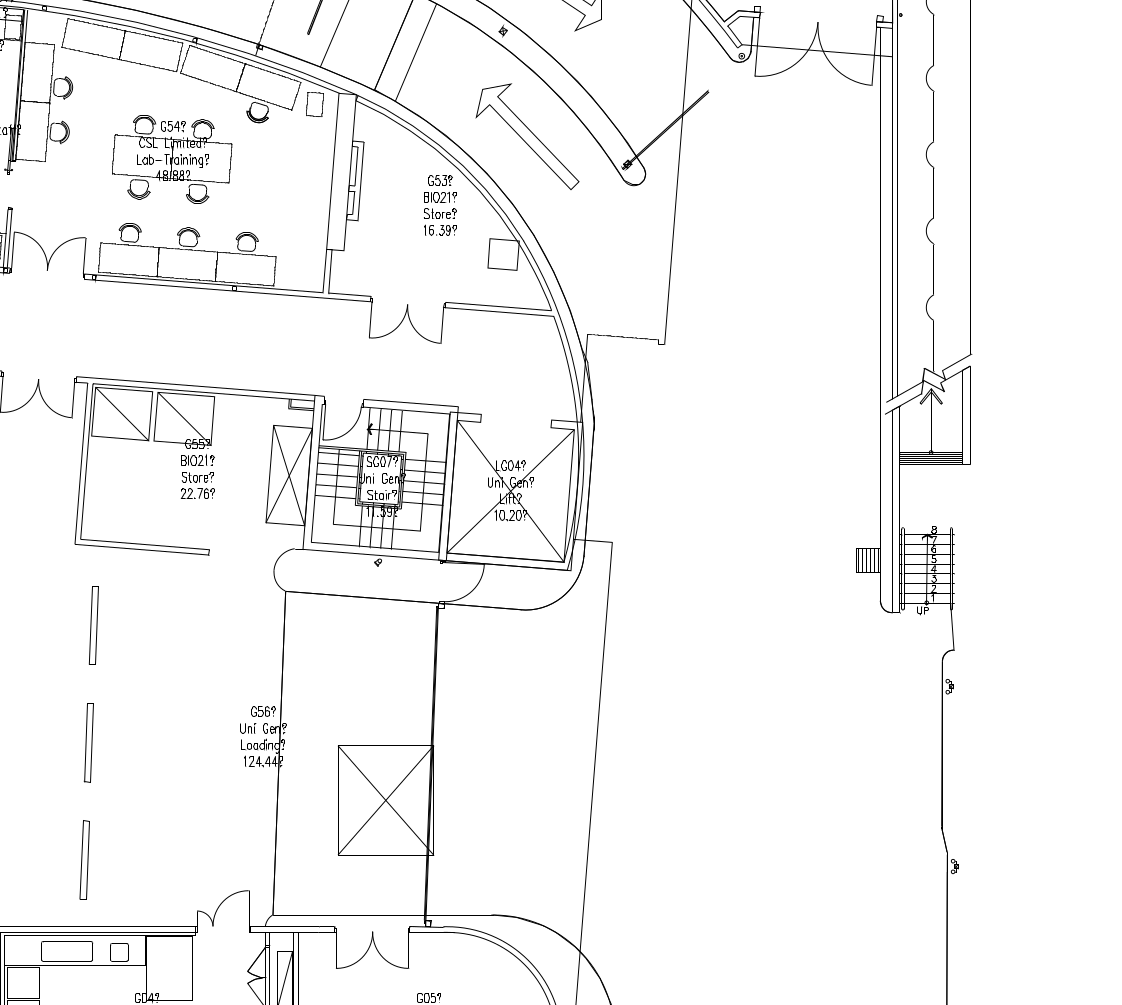door: (751, 8, 878, 96), (10, 222, 88, 282), (370, 296, 448, 356), (1, 369, 78, 429), (327, 924, 414, 976), (193, 881, 254, 939), (321, 386, 368, 445)
